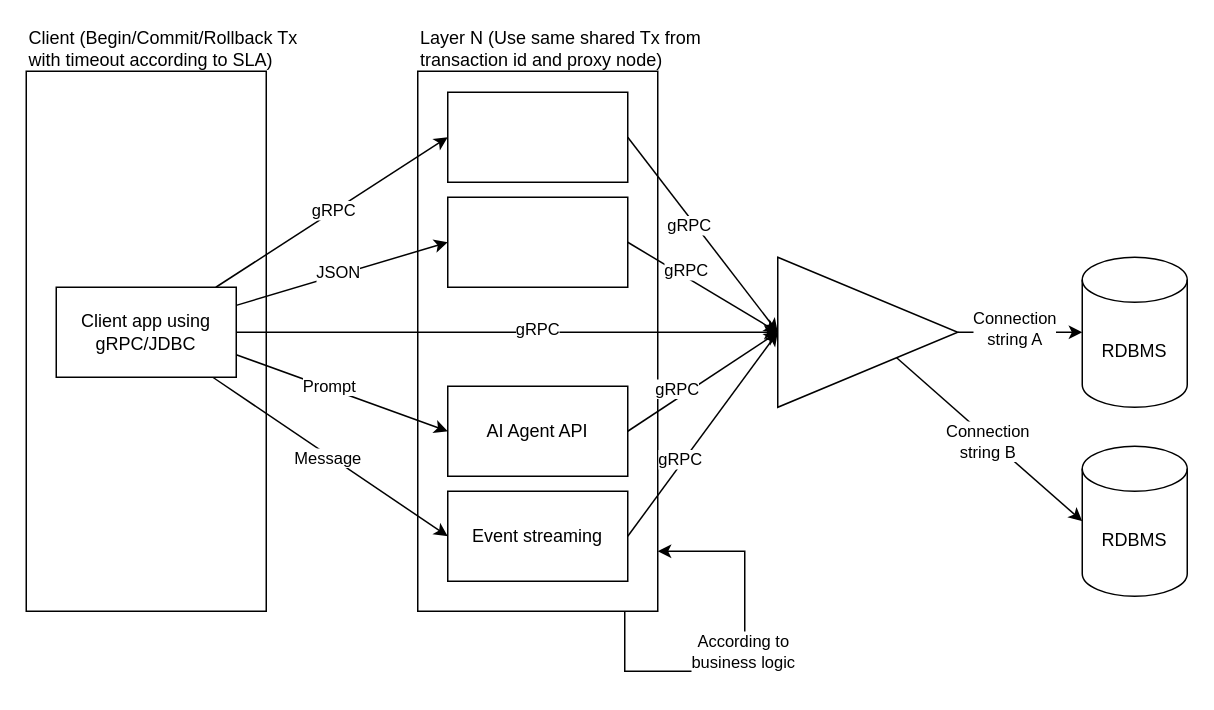
This 1214x710 diagram has some shape labels left out. Each missing label, with the box of its shape:
DB proxy node N: (776, 256, 958, 407)
gRPC API: (446, 91, 628, 182)
REST API: (446, 196, 628, 287)
